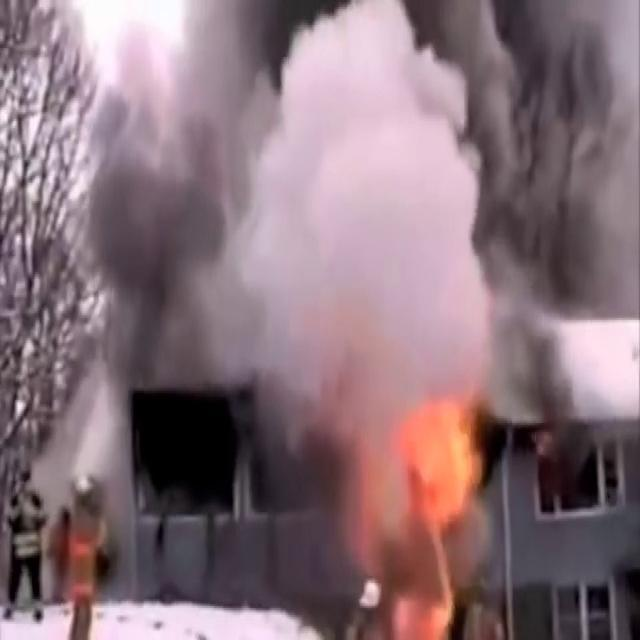Fire: (375, 382, 491, 636)
Smoke: (50, 0, 637, 588)
